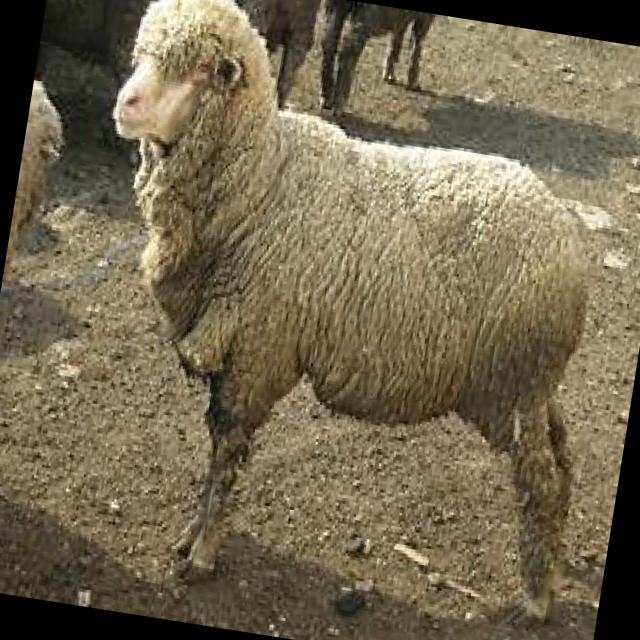animal: (42, 0, 640, 638)
